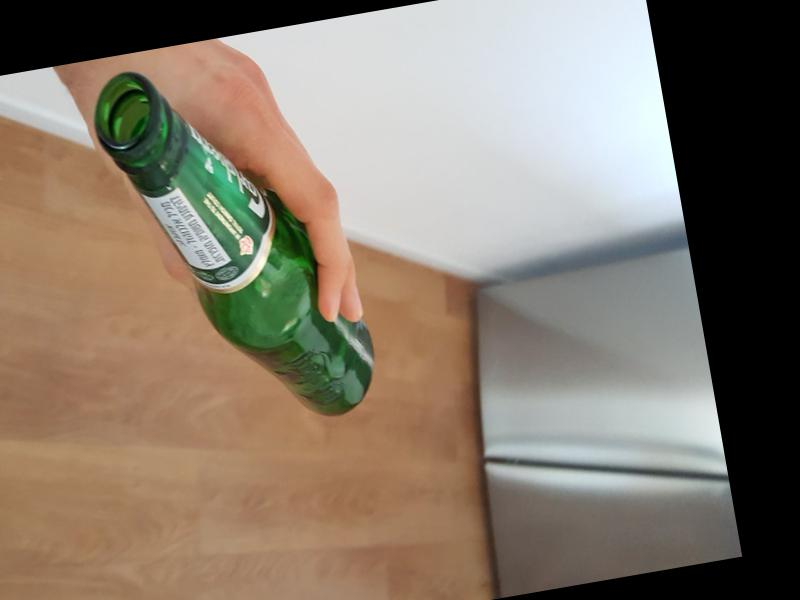Beer: (85, 37, 382, 448)
